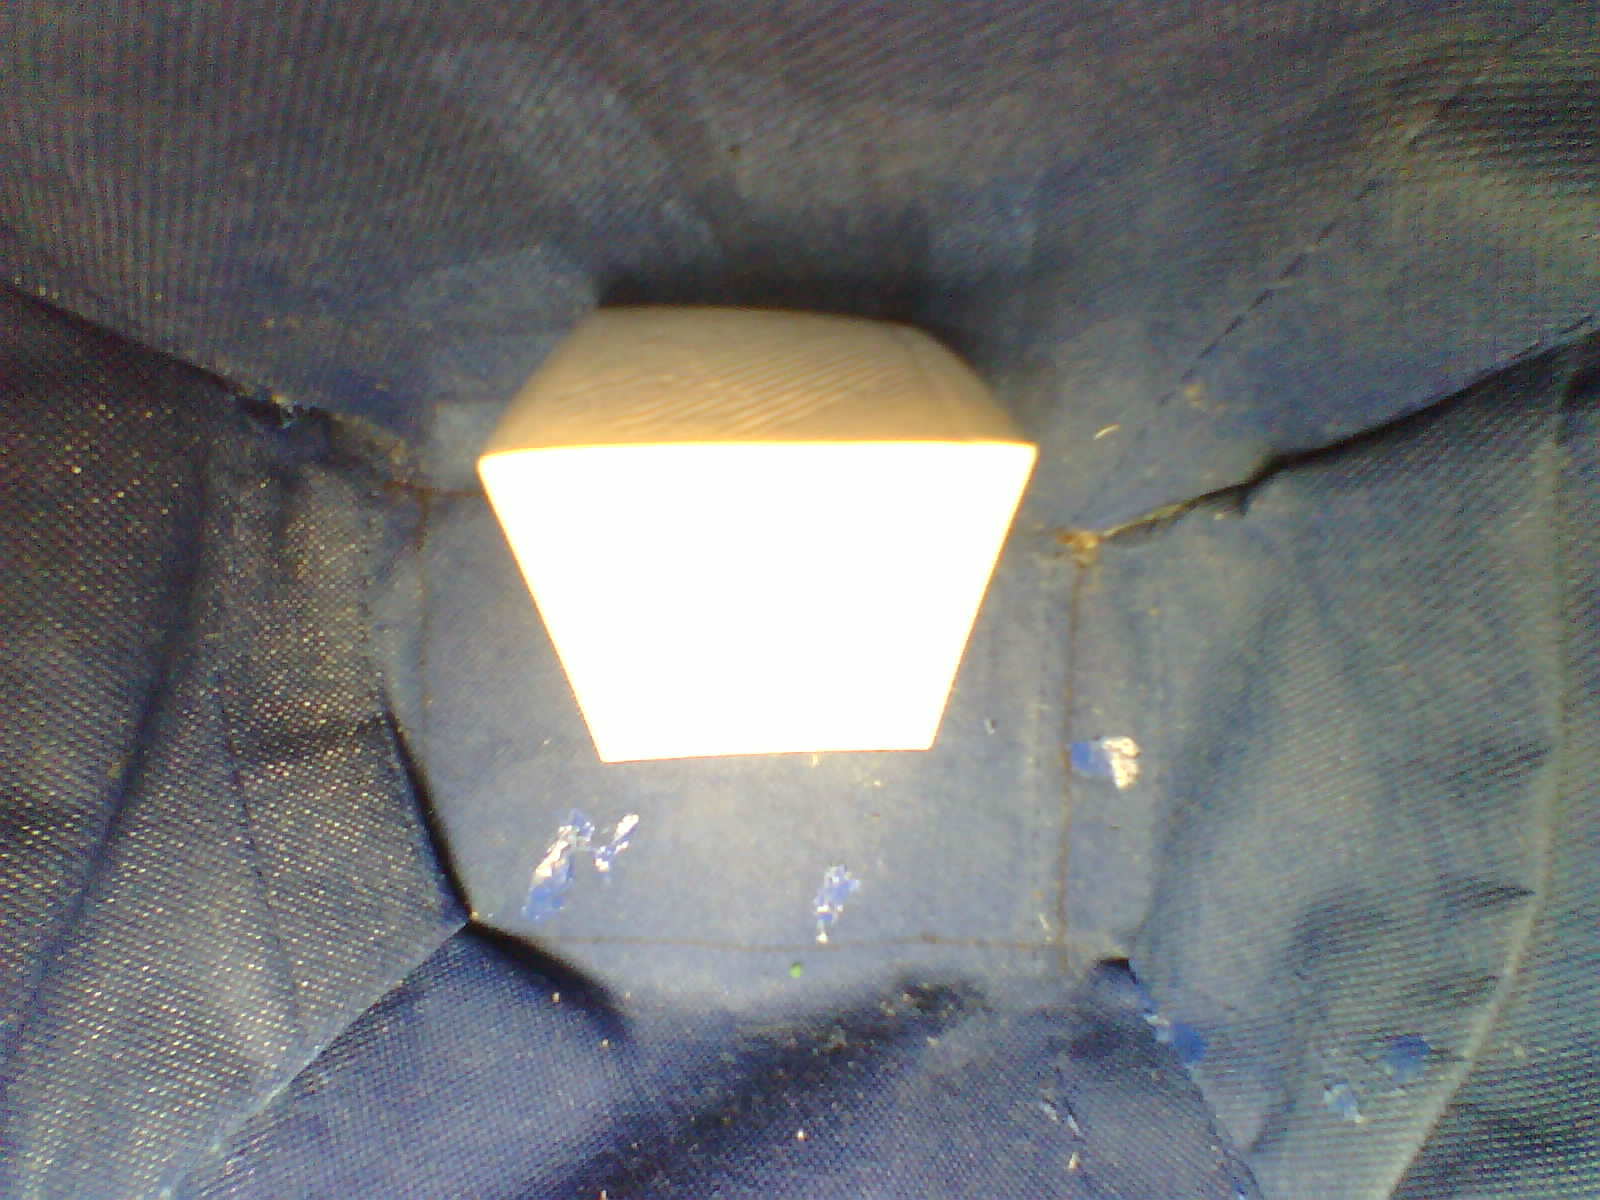cube-hard: (462, 286, 1046, 779)
